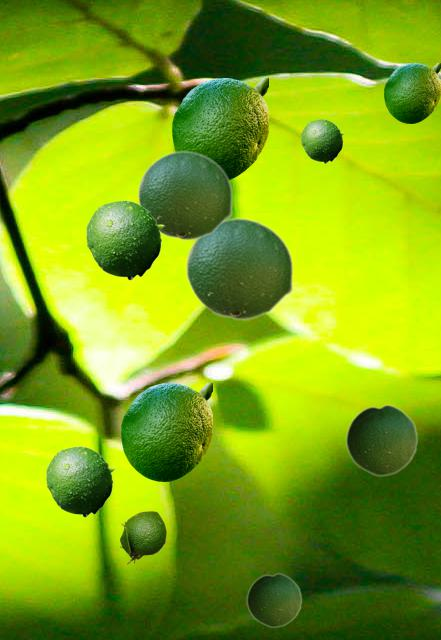dalandan: (185, 217, 293, 320), (172, 78, 267, 179), (121, 383, 211, 480), (137, 150, 232, 240), (86, 200, 163, 279), (345, 403, 417, 476), (46, 446, 114, 516), (384, 63, 439, 122), (246, 572, 301, 627), (119, 511, 165, 563), (301, 119, 343, 162)
